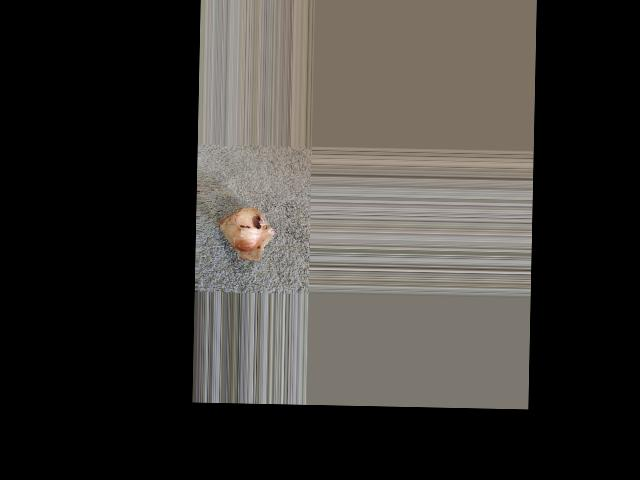onion: (220, 205, 267, 252)
